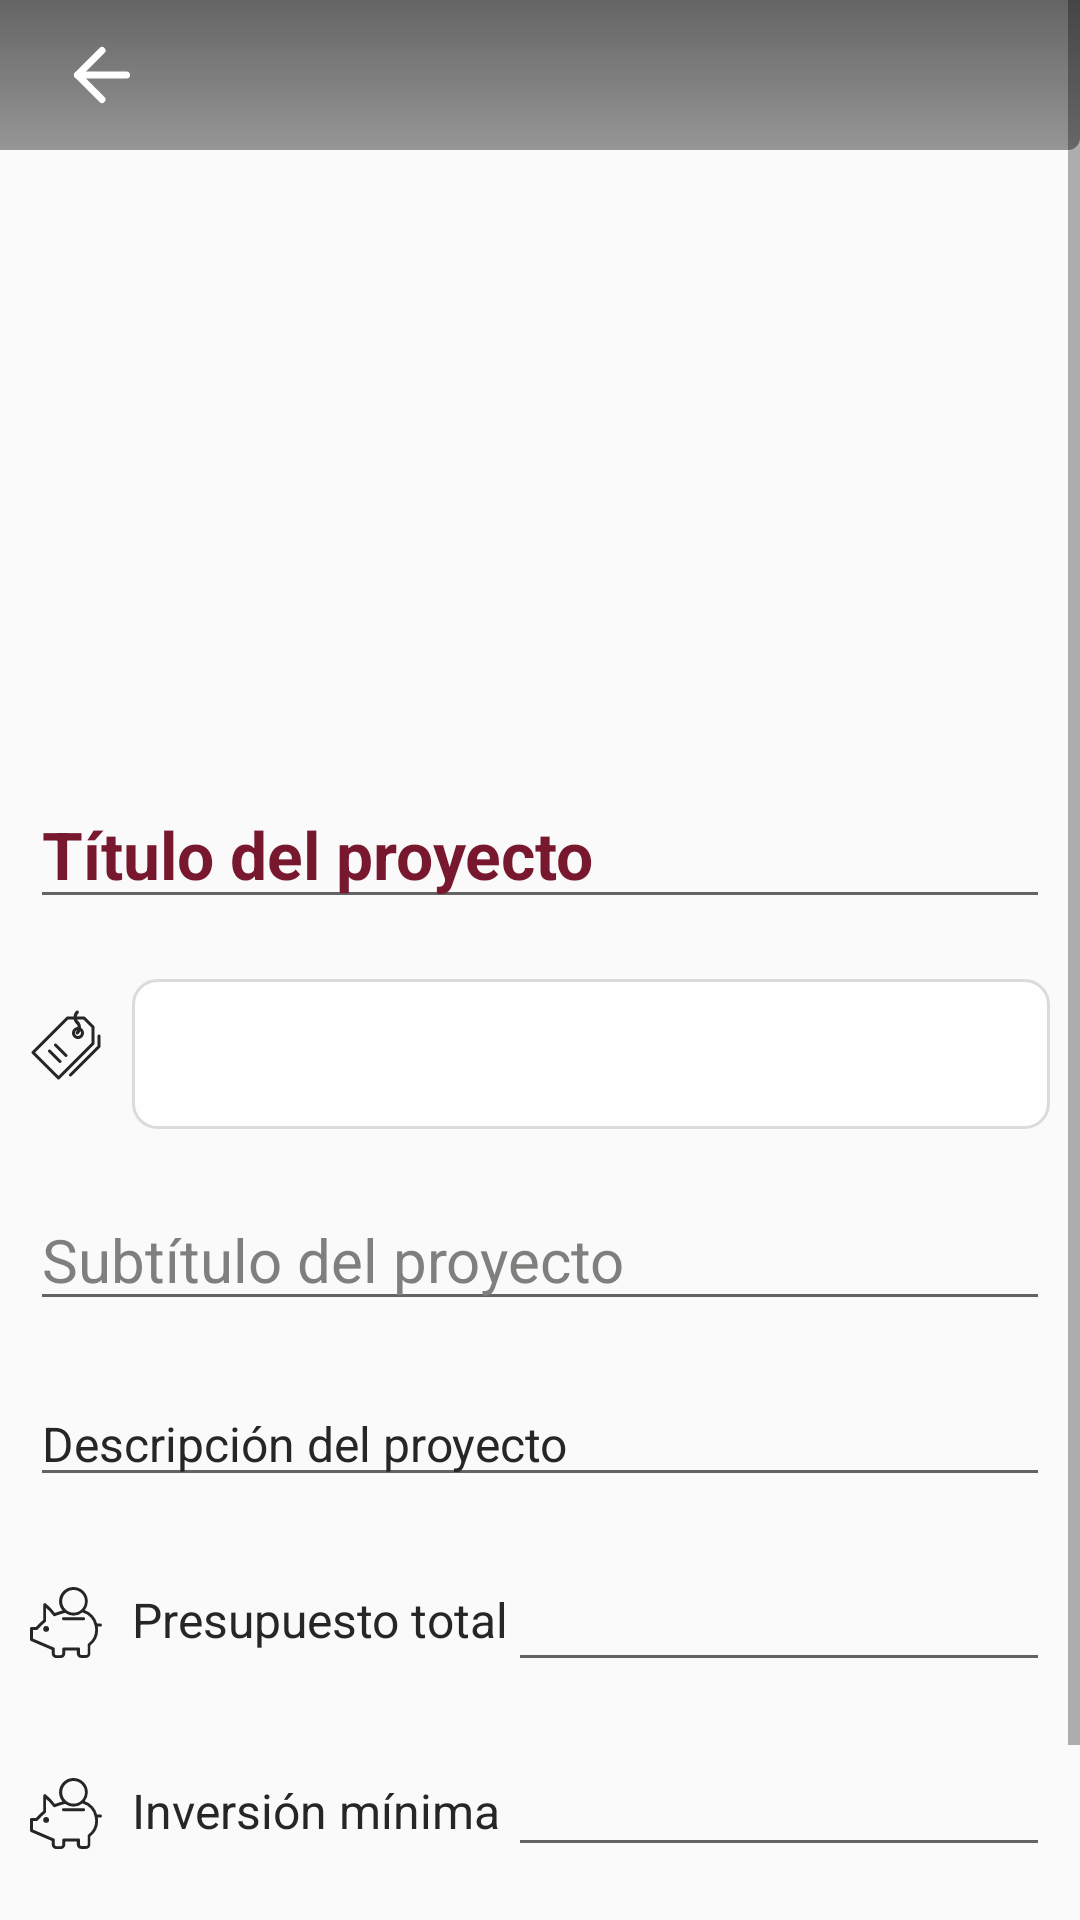

Icon click points for this 1080 x 1920 phone screenshot, format [x,y]:
Volver atrás: [102,75]
